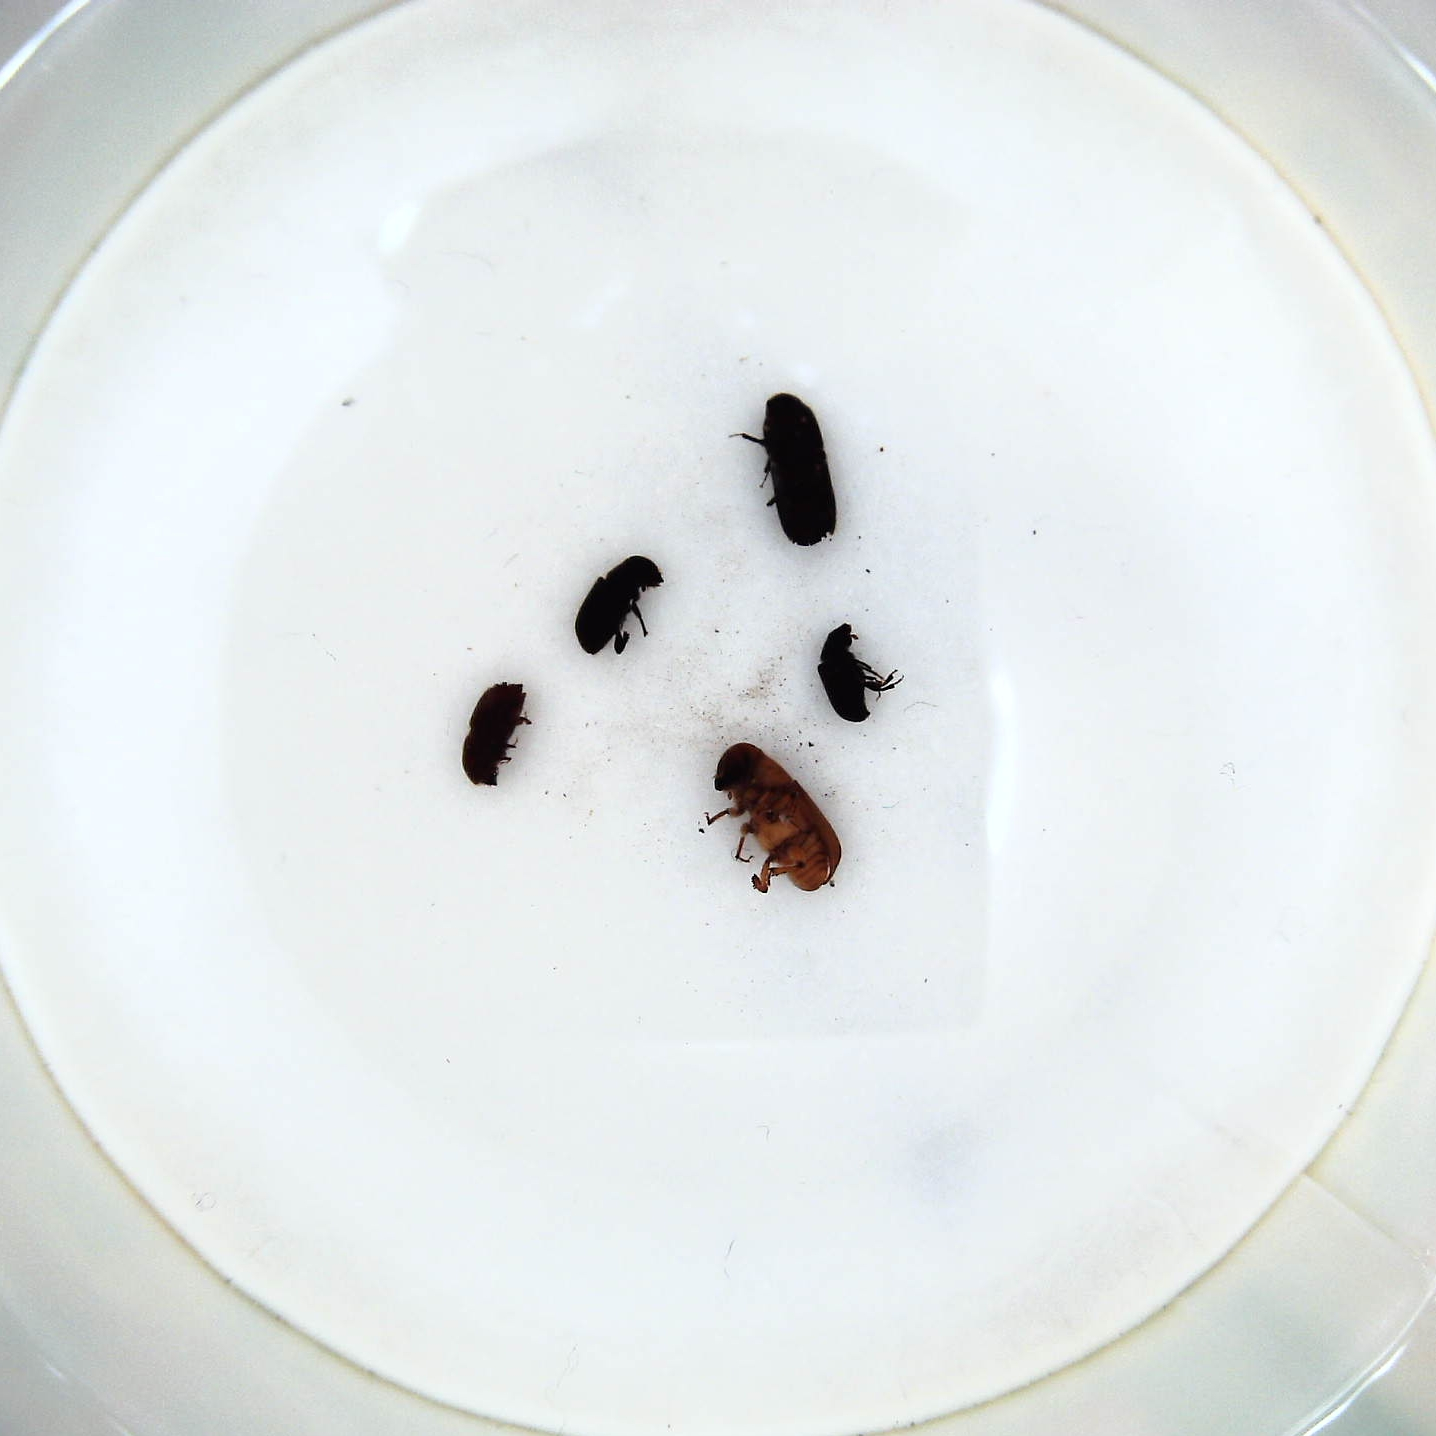Boerner: (732, 387, 846, 556)
Leconte: (701, 736, 850, 899)
armandi: (573, 551, 667, 663)
coleoptera: (815, 619, 911, 734)
linnaeus: (458, 673, 535, 792)
